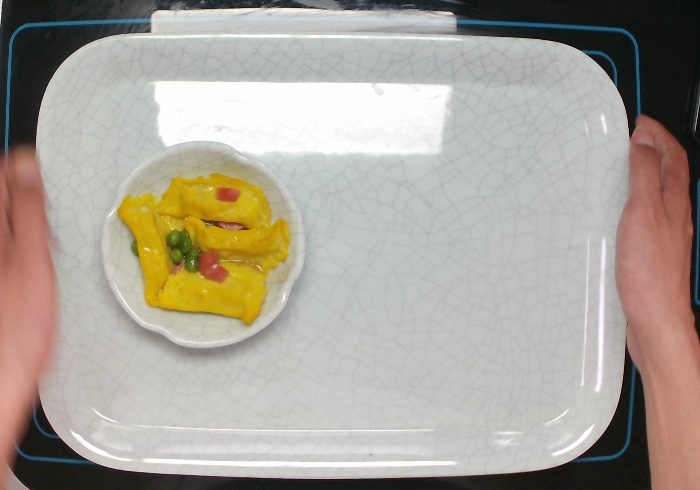JYsf-Ao_Yuan_Wan: (97, 138, 307, 351)
